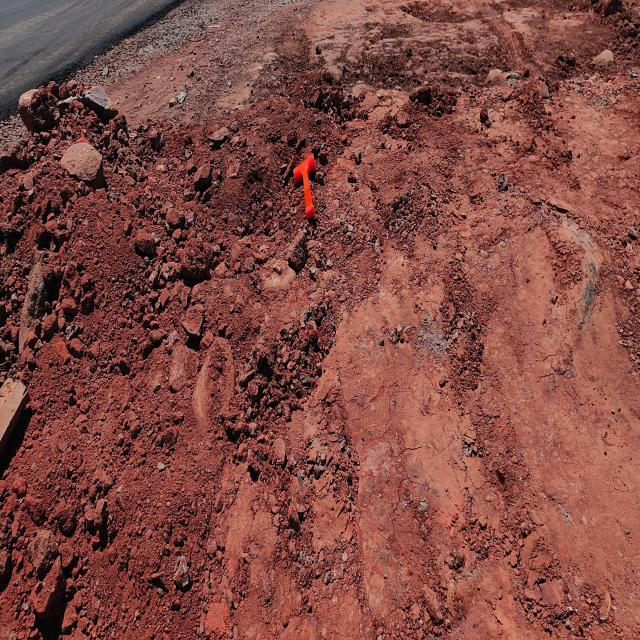Orange_hammer: (294, 151, 318, 220)
